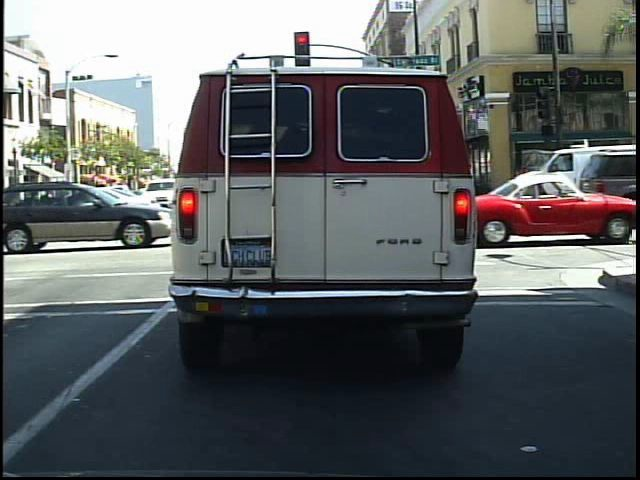person: (589, 142, 613, 209), (538, 152, 562, 210), (513, 155, 535, 207)
